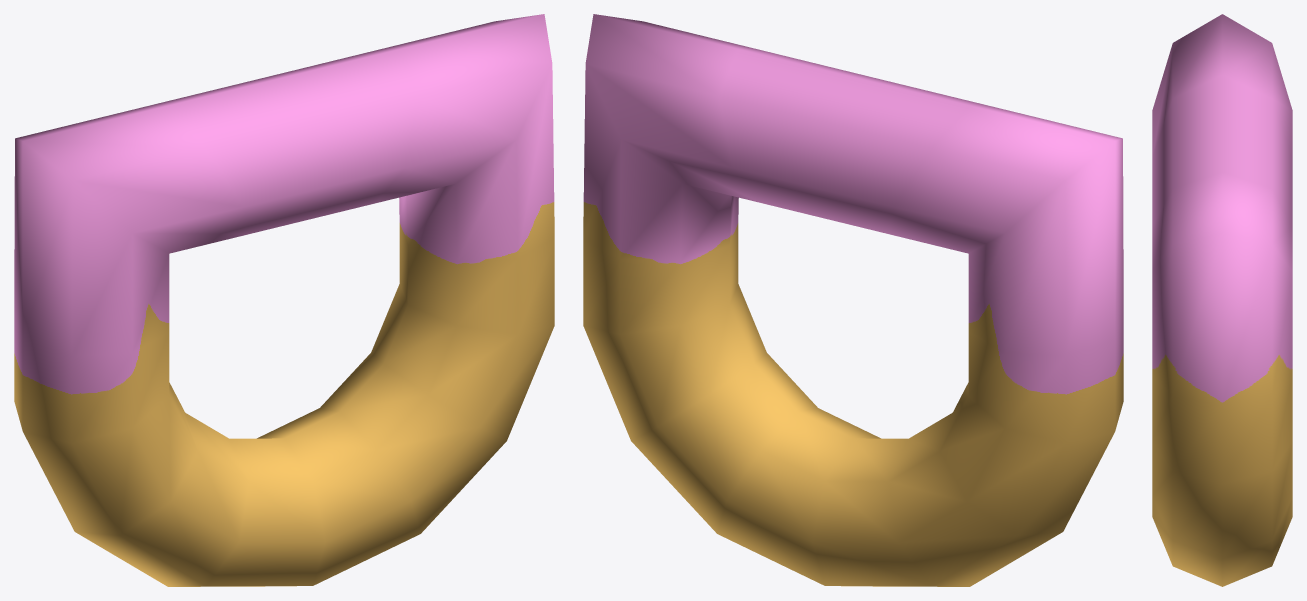
File: Donut_Block.fbx
3 views of the same model, side by side, from view 1: azimuth 30°, elevation 25°; view 2: azimuth 150°, elevation 25°; view 3: azimuth 270°, elevation 25° (orthographic). The views are drawn at different scales.
Visible parts, largest first — view 1: Donut Blocks; view 2: Donut Blocks; view 3: Donut Blocks.
Boxes of the visible parts, left/top/right/bottom form: Donut Blocks: left=14, top=14, right=554, bottom=586; Donut Blocks: left=583, top=14, right=1123, bottom=586; Donut Blocks: left=1152, top=14, right=1292, bottom=586.
Size of the model in its own units: 38.64 by 35.92 by 10.44.
